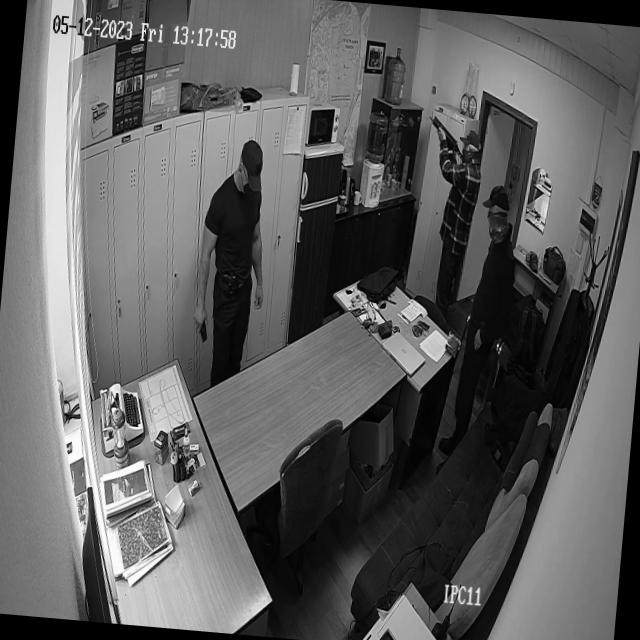gun: (426, 114, 466, 160)
person: (436, 178, 524, 484), (188, 134, 278, 392)
person with a gun: (412, 113, 488, 325)
